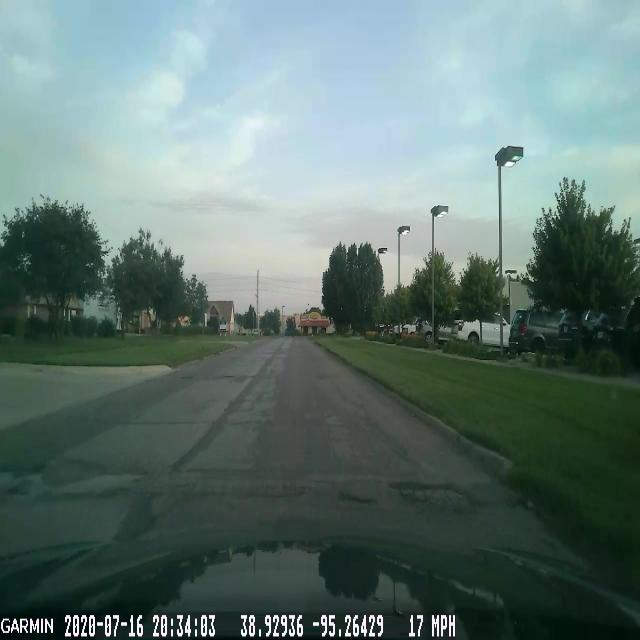Pothole: (386, 476, 484, 521)
